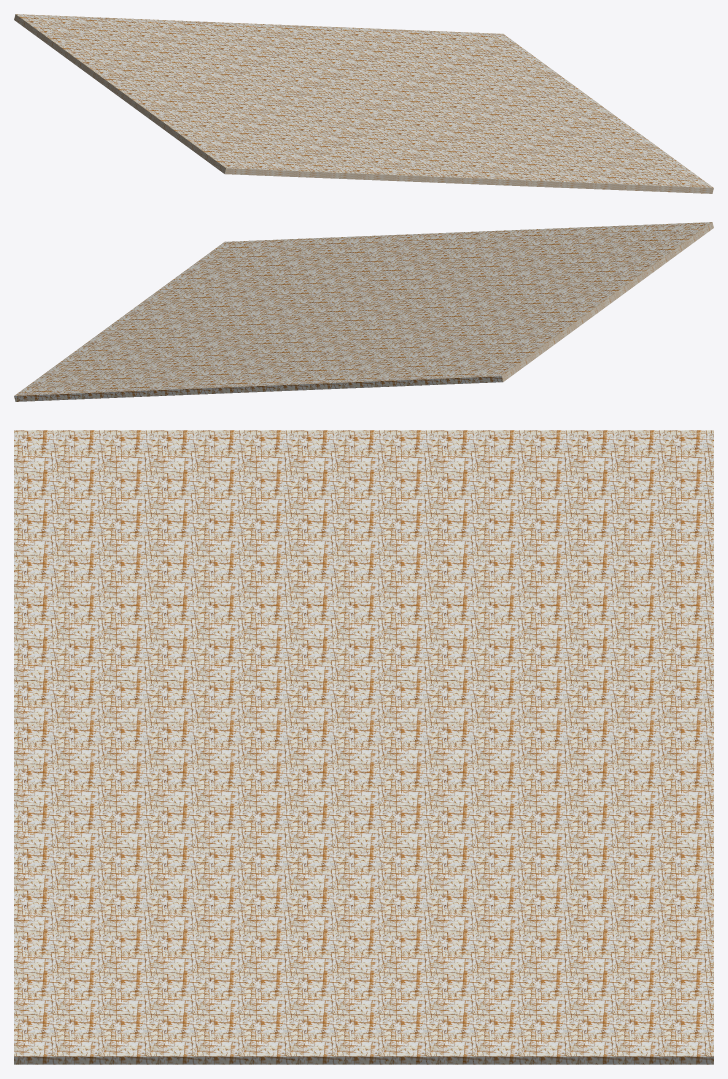
The model's file is Supremo.glb.
3 renders of one model, top to bottom at view 1: azimuth 30°, elevation 25°; view 2: azimuth 150°, elevation 25°; view 3: azimuth 270°, elevation 25°, orthographic. The views are drawn at different scales.
Visible parts, largest first — view 1: Cube.032; view 2: Cube.032; view 3: Cube.032.
Part boxes in pixels (box(x1,y1,x2,y2)): Cube.032: box(14, 14, 713, 193); Cube.032: box(14, 222, 713, 401); Cube.032: box(14, 430, 713, 1064).
Size of the model in its own units: 13.43 by 3.79 by 10.01.
Materials: 2 (2 with a texture image).
